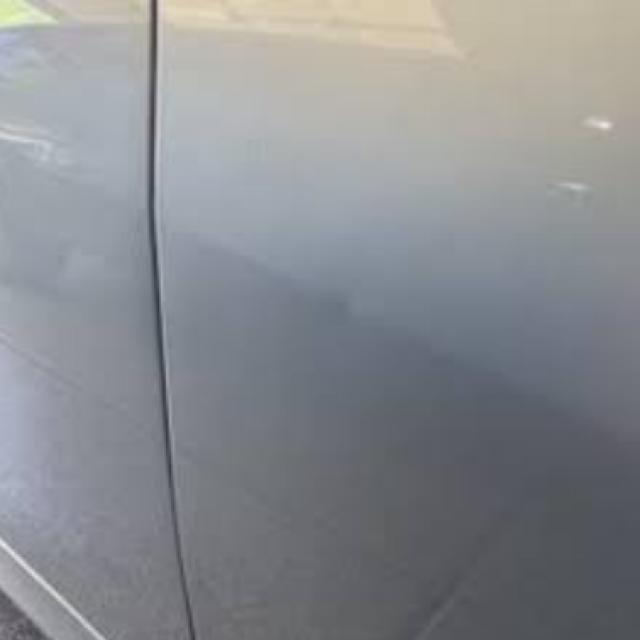dents: (299, 269, 407, 350)
